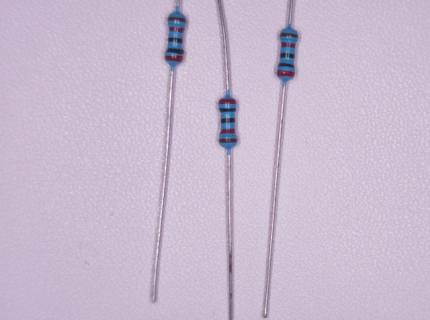Black band: (166, 48, 184, 54), (168, 37, 183, 44), (220, 118, 236, 124), (278, 62, 294, 68), (280, 53, 295, 59), (220, 108, 237, 113)
Brown band: (279, 32, 299, 39), (168, 16, 187, 23), (219, 138, 237, 144)
Red band: (165, 55, 184, 63), (276, 70, 295, 78), (219, 98, 236, 105), (169, 26, 185, 33), (281, 42, 296, 49), (220, 128, 236, 134)
